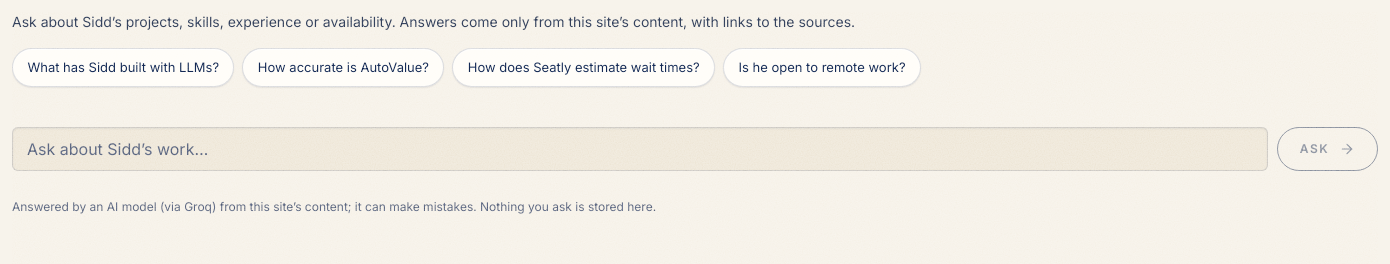
AskPanel › sends a typed question and shows the server’s error message
The width and height of the screenshot is (1390, 264).
Expected: the button "Ask" is disabled, [1277, 127, 1378, 171]
In the field named "Your question": (640, 149) [12, 127, 1268, 171], type "Is he open to remote work?"
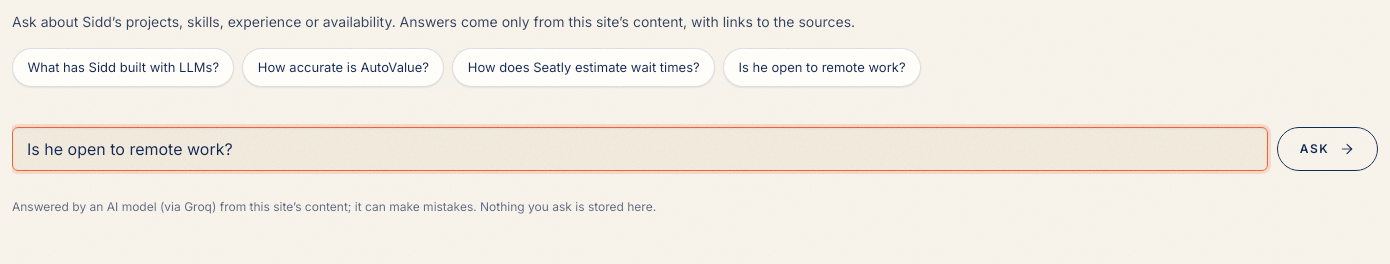
Click the button "Ask": (1328, 149) [1277, 127, 1378, 171]
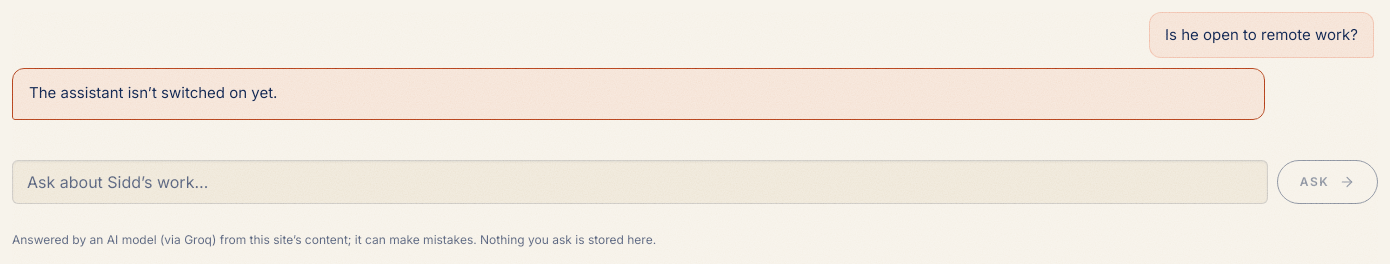
Expected: the text "The assistant isn’t switched on yet." is shown, [29, 83, 278, 102]
Expected: the field named "Your question" is empty, [12, 160, 1268, 204]
